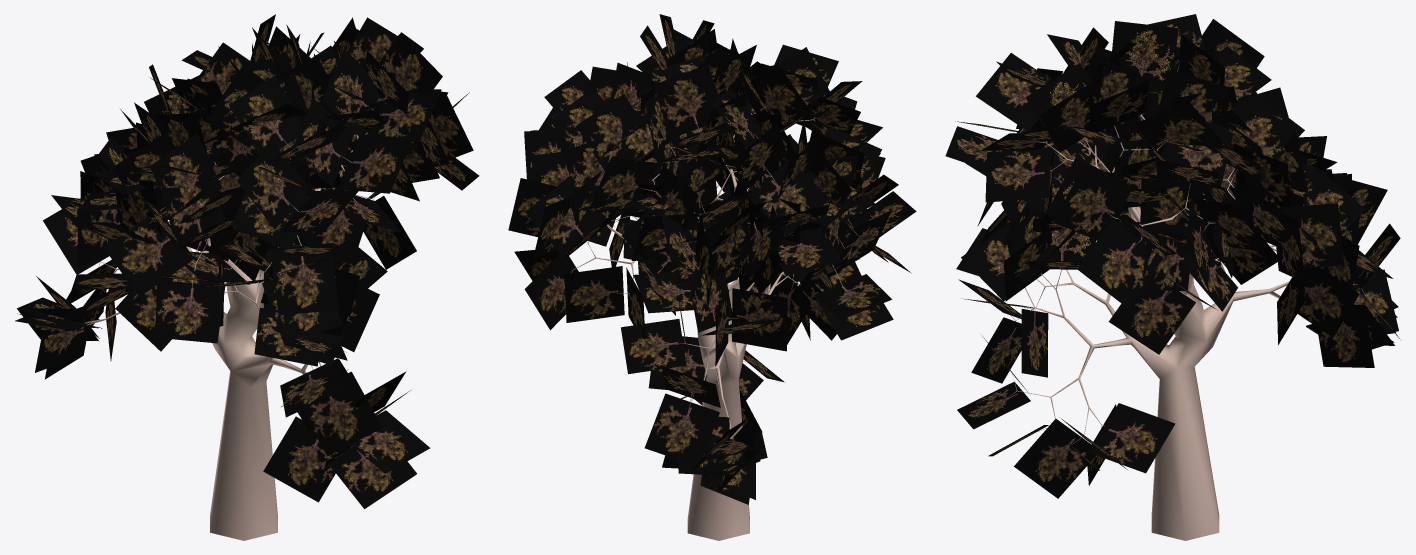
The model's file is tree2.glb.
3 views of the same model, side by side, from view 1: azimuth 30°, elevation 25°; view 2: azimuth 150°, elevation 25°; view 3: azimuth 270°, elevation 25° (orthographic). The views are drawn at different scales.
Size of the model in its own units: 5.99 by 7.43 by 6.14.
Materials: 2 (1 with a texture image).
